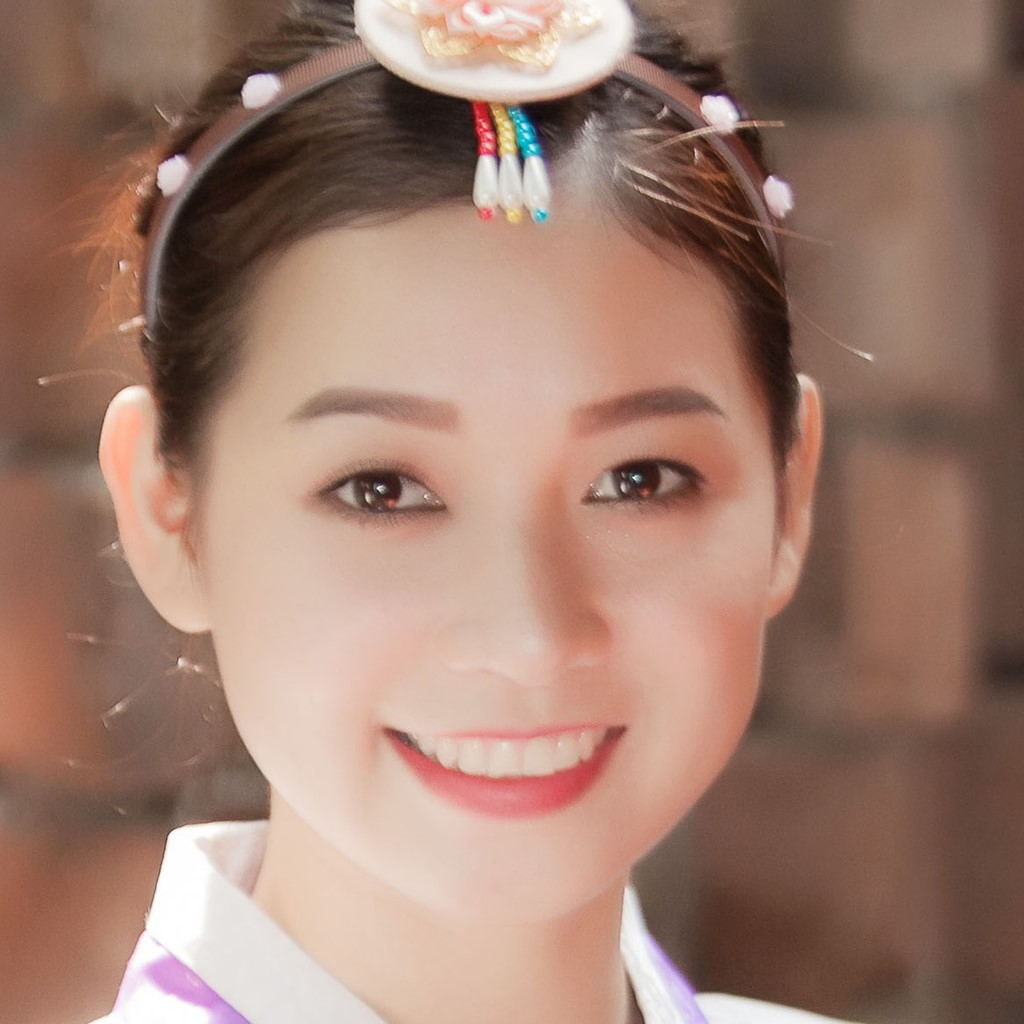sin_mascara: (185, 172, 804, 900)
